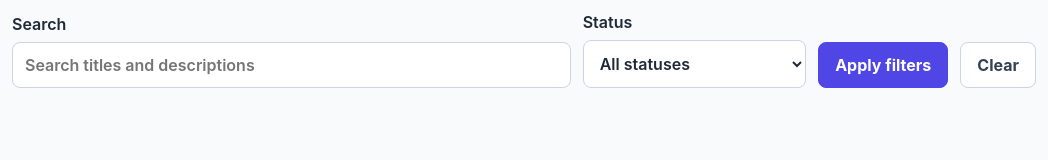
Test case: TaskFilters › clears draft controls and removes all applied filters
Type "API" into the search field labelled "Search" at x=291, y=65, box [12,42,571,88]
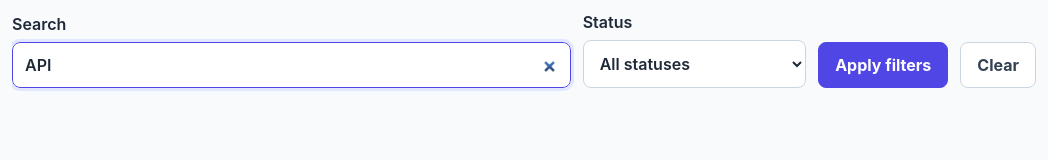
Select "In progress" in the dropdown labelled "Status" at x=694, y=64, box [583,40,806,88]
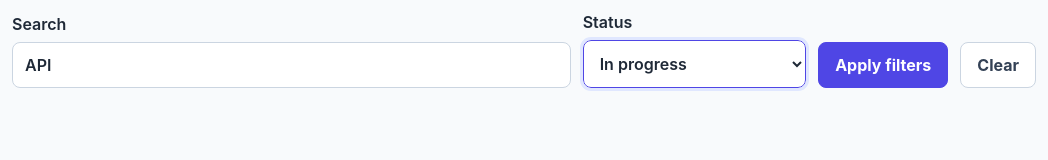
Click the button "Clear" at x=998, y=65, box [960,42,1036,88]
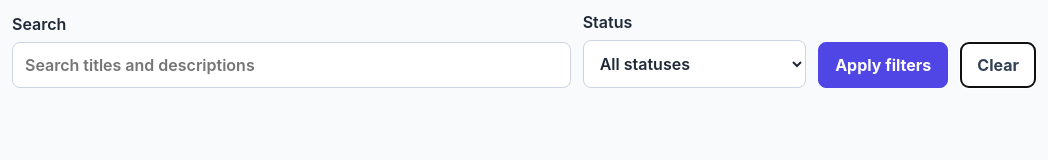
Expected: the search field labelled "Search" is empty, [12,42,571,88]
